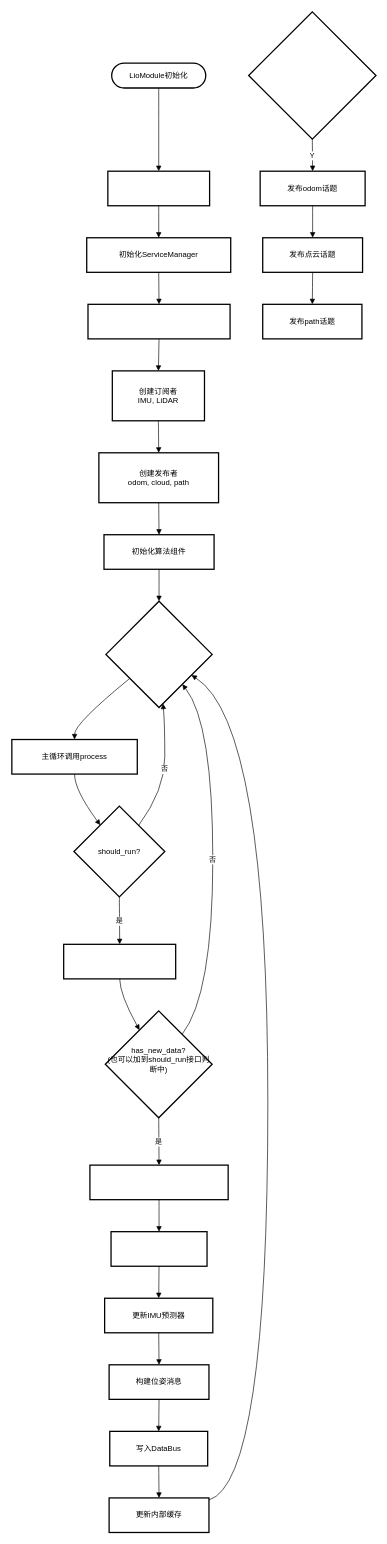
The diagram is 387 pixels wide and 1544 high, and some of its shapes have lost their labels. Each missing label, with the centre of its shape:
主循环调用 publish?: point (312, 75)
创建ROS节点: point (158, 188)
创建start/stop标准服务, 创建proxy服务: point (158, 321)
同步IMU和LiDAR数据: point (158, 1182)
执行do_process: point (119, 961)
等待主循环调用: point (158, 654)
运行LIO算法: point (158, 1249)
